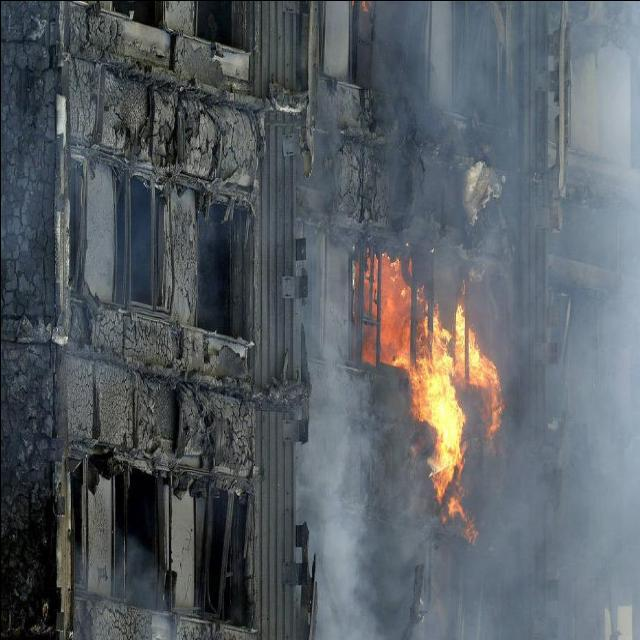Fire: (356, 246, 506, 540)
